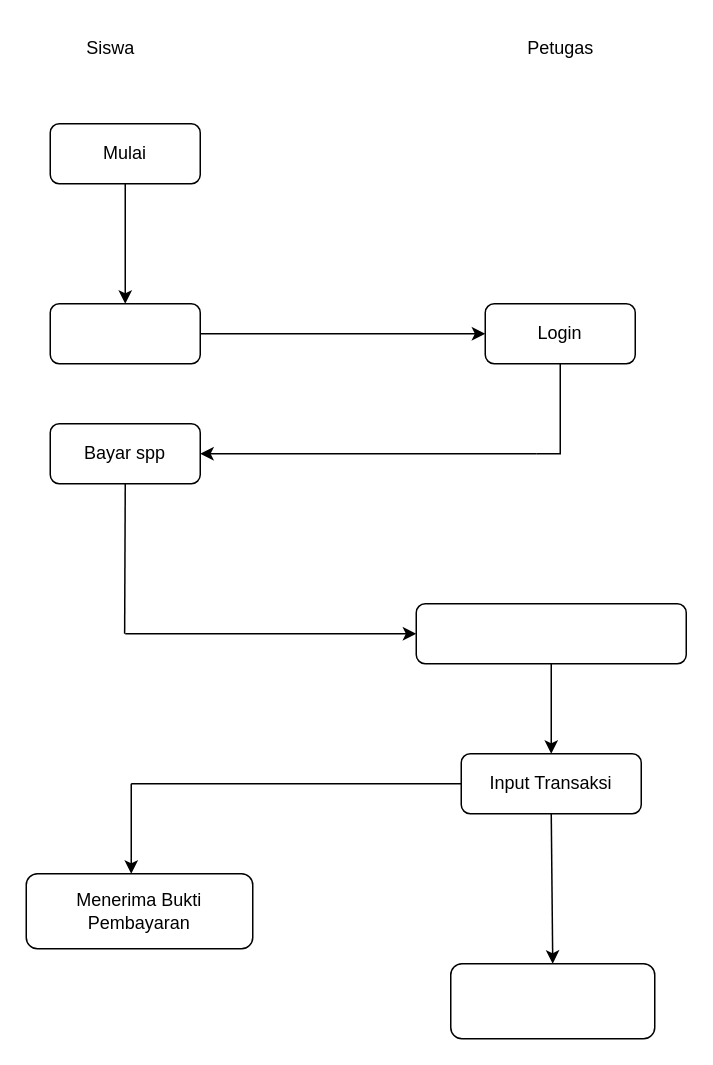
This 713x1065 diagram has some shape labels left out. The centre of each missing label's shape, as x and y in pixels:
Memberikan Nisn: point 124,333
Membuat Laporan Perbulan: point 552,1000
Tambahkan Pembayaran: point 550,633
